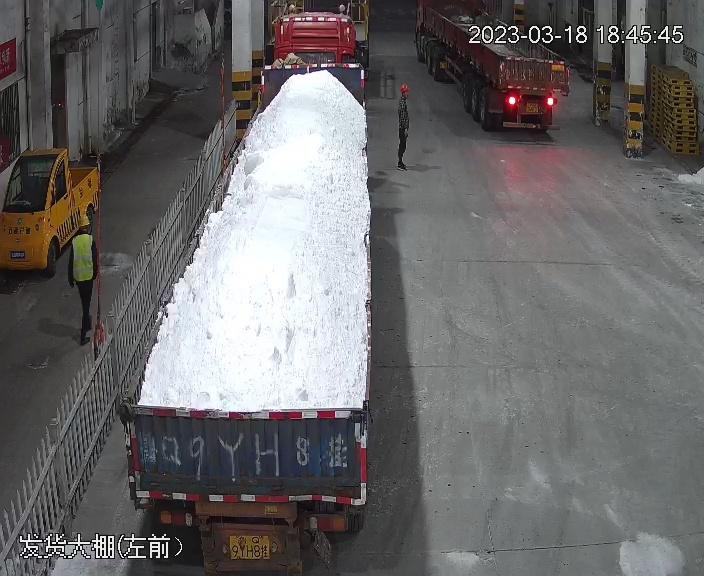head: (68, 215, 96, 256), (397, 82, 413, 108)
helmet: (75, 215, 90, 229), (399, 82, 410, 92)
people: (63, 213, 100, 349), (394, 81, 415, 169)
truck: (113, 4, 389, 567), (411, 1, 577, 133)
